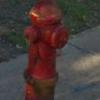Hydrant: (18, 2, 72, 100)
